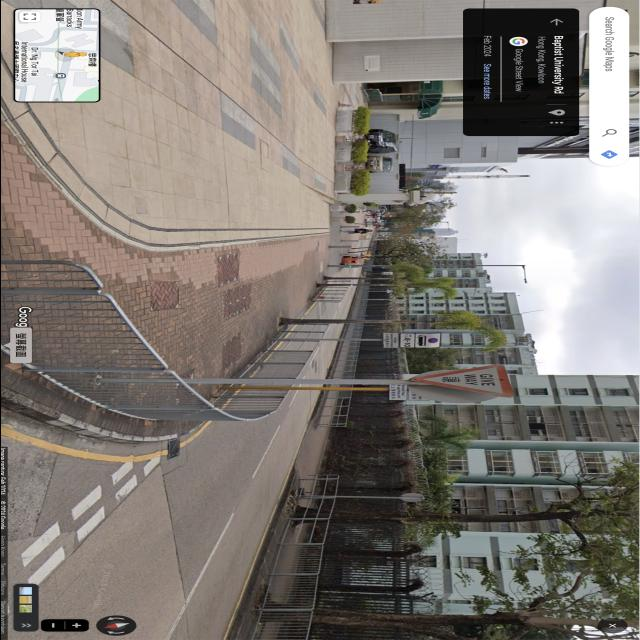Order-Sign: (399, 333, 441, 348)
Warning-Sign: (408, 364, 512, 398)
